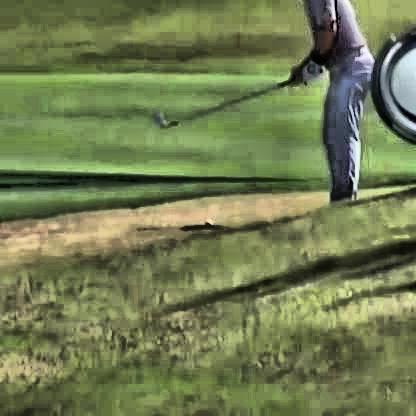golfball: (203, 215, 210, 225)
